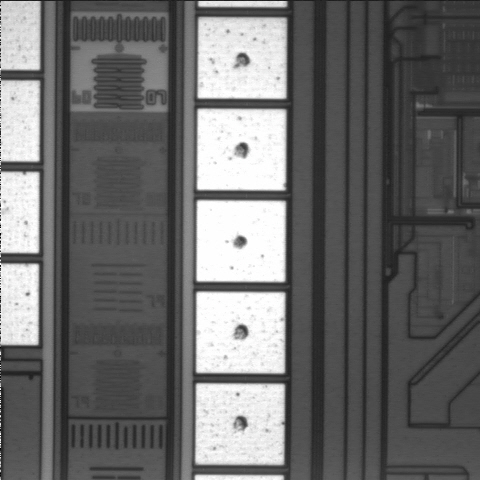pad: (196, 200, 286, 282), (195, 383, 285, 465), (198, 17, 286, 99), (197, 109, 286, 190), (196, 292, 285, 373)
